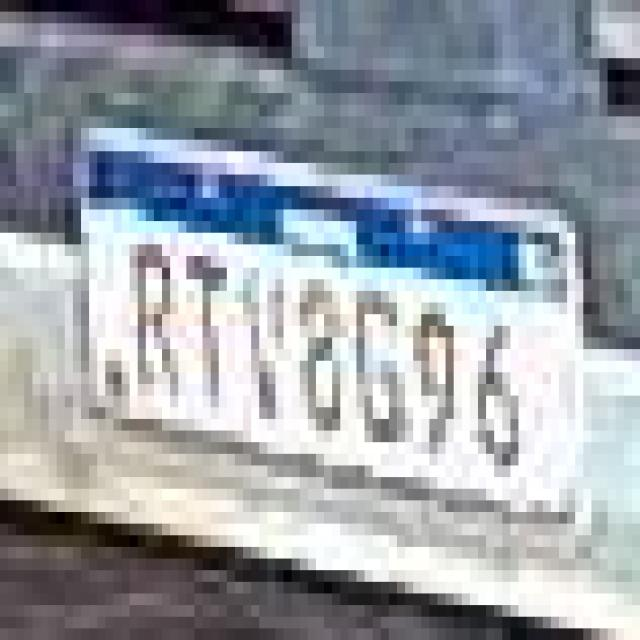6: (462, 298, 529, 478)
8: (300, 253, 348, 454)
9: (402, 303, 465, 473)
G: (358, 280, 413, 462)
R: (123, 236, 180, 410)
T: (168, 234, 238, 419)
V: (234, 255, 298, 440)
